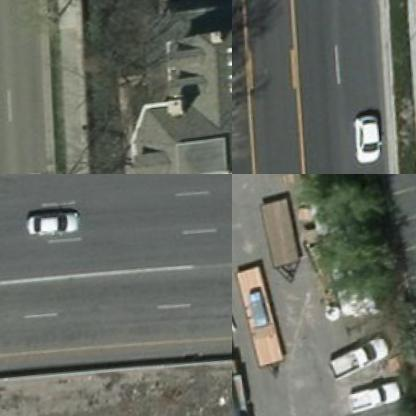car: (326, 326, 392, 378), (348, 379, 408, 411), (352, 111, 386, 163), (29, 205, 82, 234)
